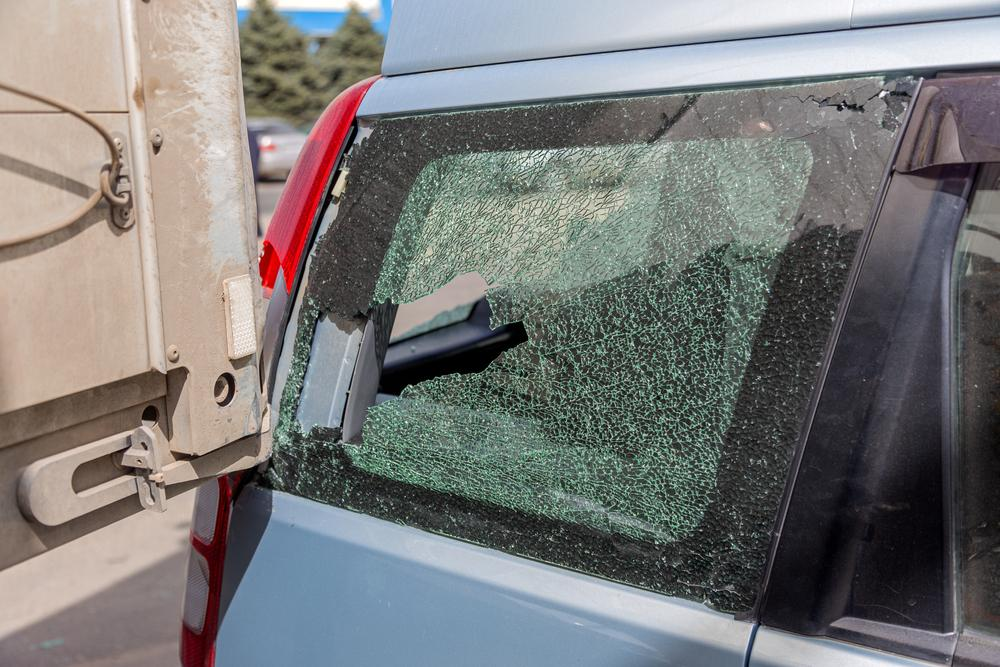glass shatter: (262, 71, 922, 615)
